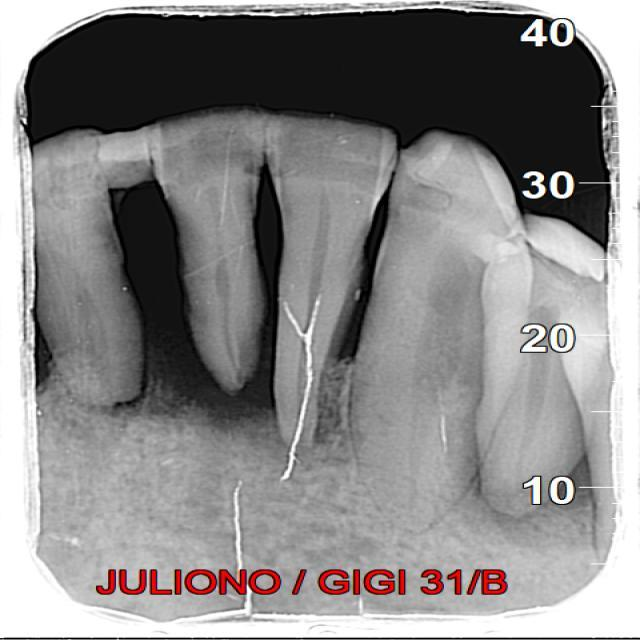individual-tooth-8tto: (356, 137, 531, 527), (258, 111, 391, 442), (143, 107, 267, 395), (14, 131, 143, 403)
